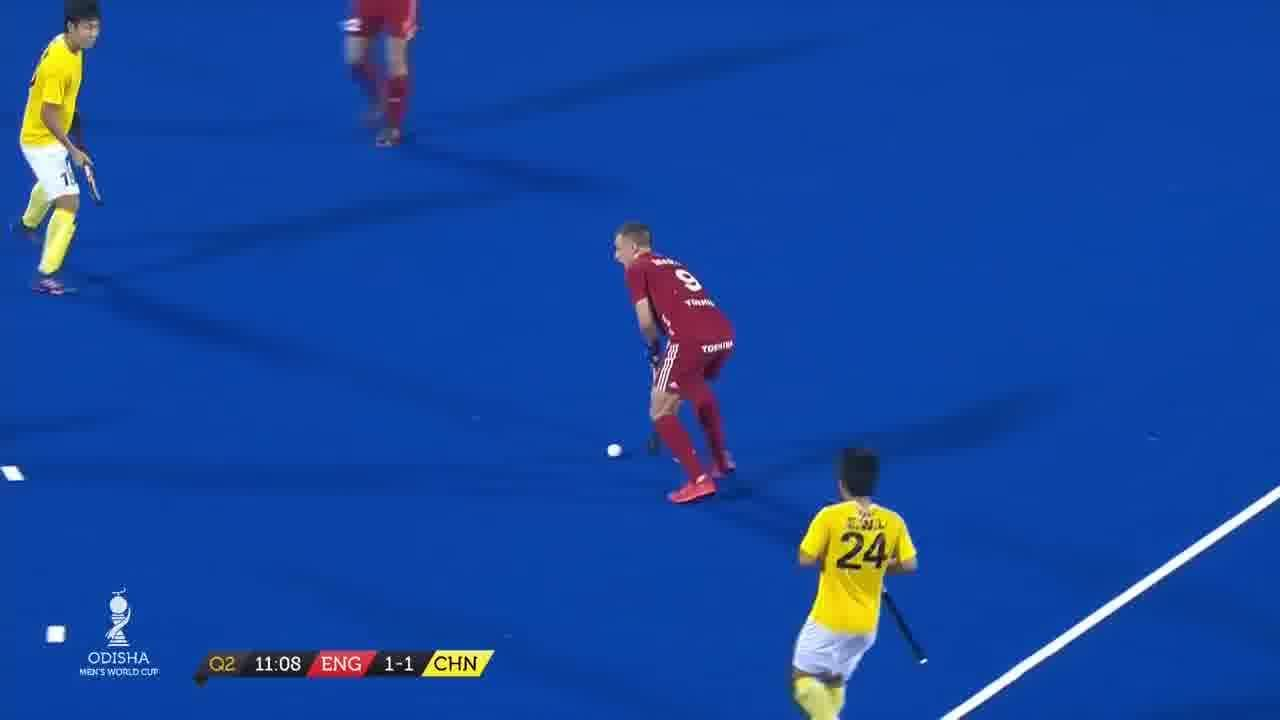ball: (601, 428, 634, 472)
